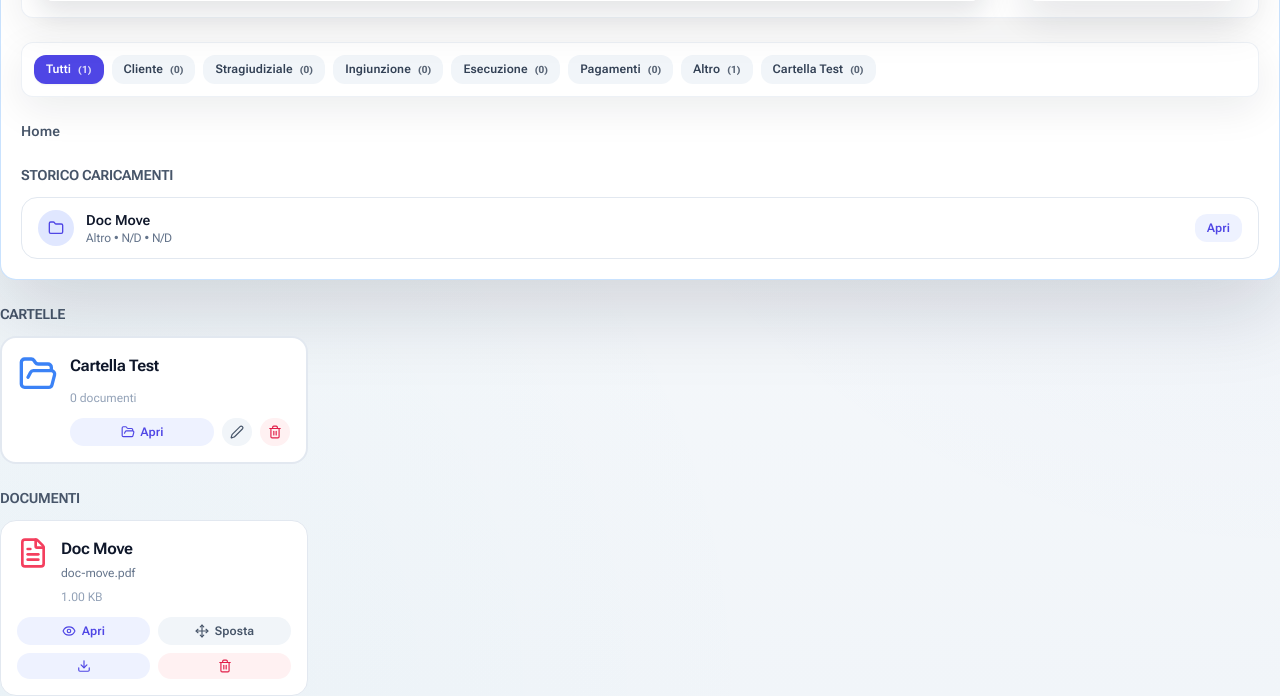
it: DocumentiPage actions › chiude la modal spostamento senza salvare
(page scrolled)
Click the button titled "Sposta documento" at (224, 630), box [158,616,291,644]
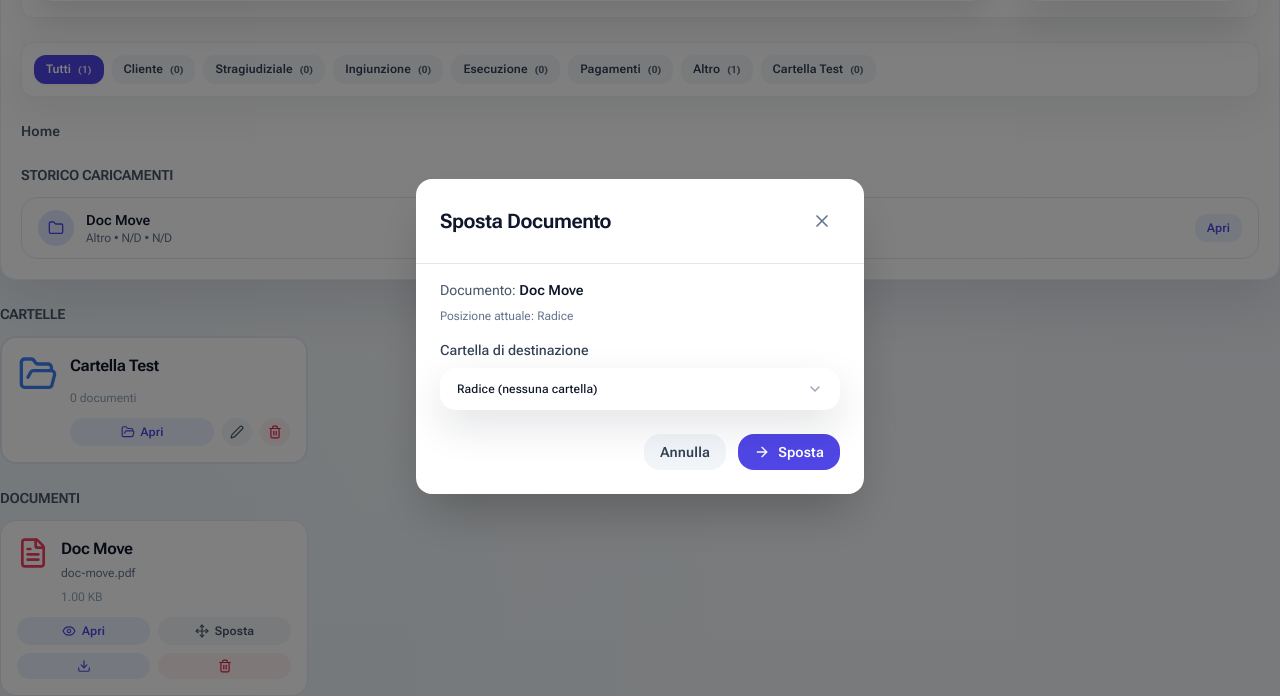
Click the button "Annulla" at (685, 452), box [644,434,726,470]
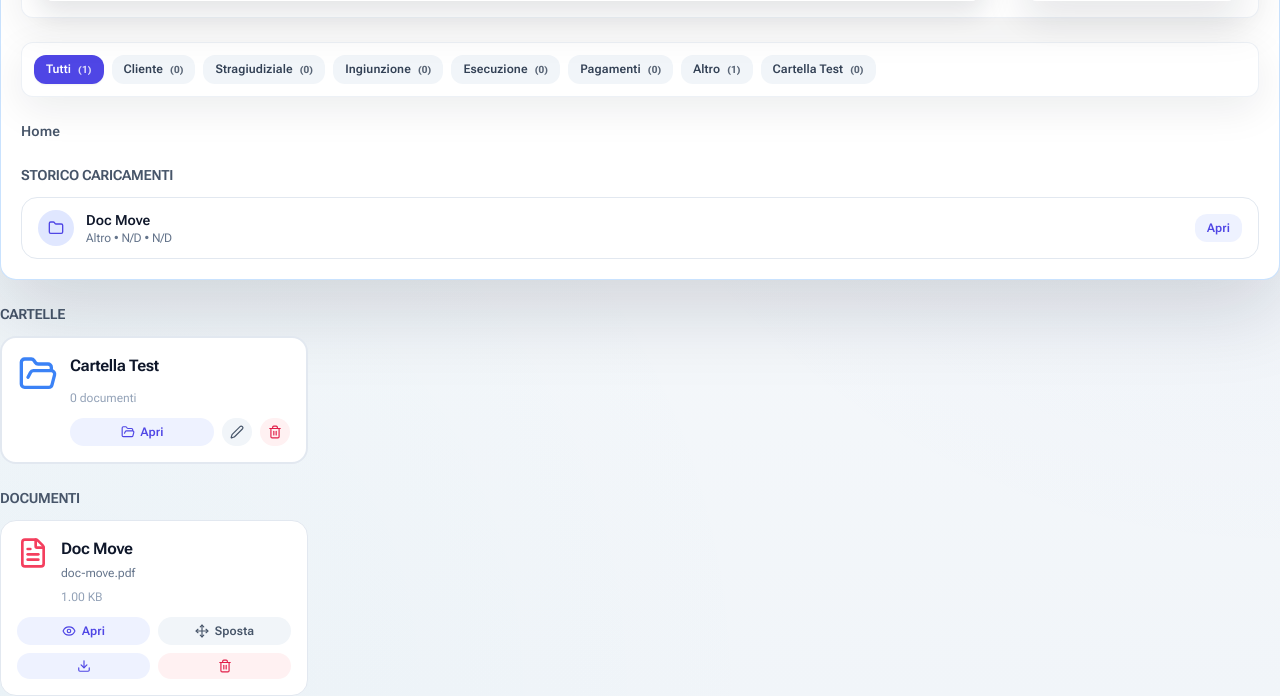
Expected: the heading "Sposta Documento" is gone
